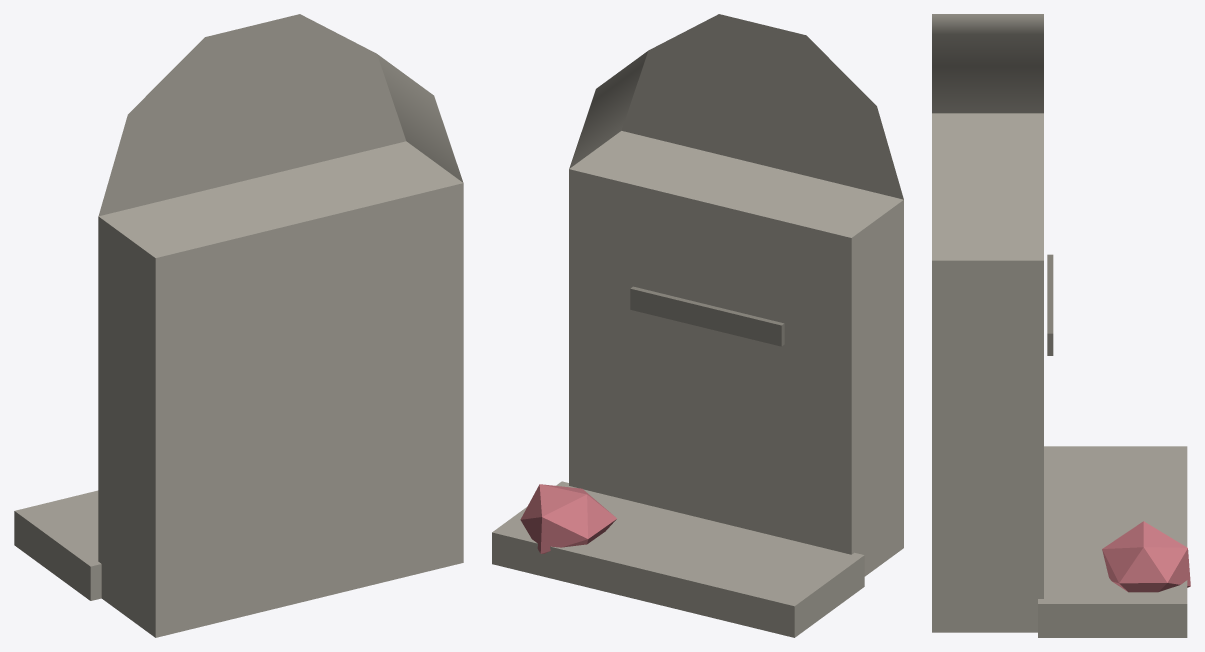
File: gravestone1.glb
The picture shows the model from 3 angles, left to right: view 1: azimuth 30°, elevation 25°; view 2: azimuth 150°, elevation 25°; view 3: azimuth 270°, elevation 25°; orthographic projection. The views are drawn at different scales.
Visible parts, largest first — view 1: gravestone1; view 2: gravestone1; view 3: gravestone1.
Boxes of the visible parts, left/top/right/bottom form: gravestone1: left=14, top=14, right=463, bottom=637; gravestone1: left=492, top=14, right=903, bottom=637; gravestone1: left=932, top=14, right=1190, bottom=637.
Size of the model in its own units: 0.6 by 0.9263 by 0.4159.
